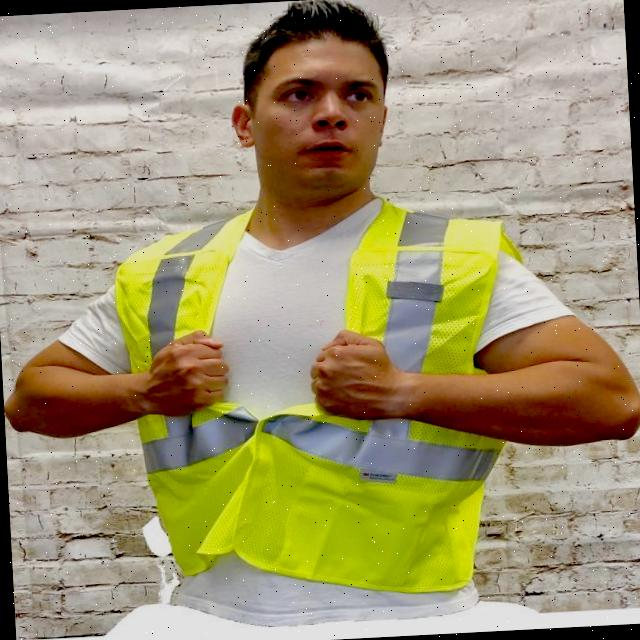vest: (108, 188, 519, 602), (266, 191, 626, 586)
